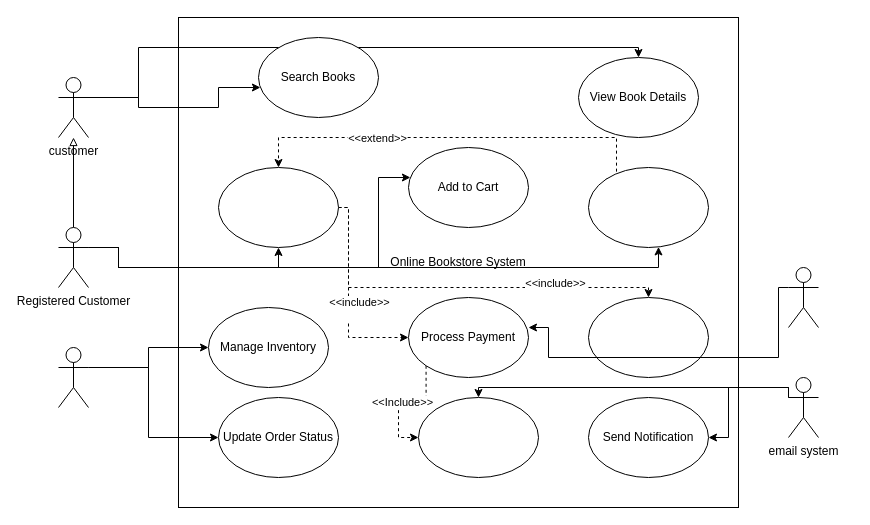
Image size: 870x525. Some labels were removed from this diagram. The centre of each missing label's shape, as x and y in pixels:
"administrator" goes at point 73,377.
"Login" goes at point 648,207.
"Payment Gateway" goes at point 803,297.
"Place Order" goes at point 278,207.
"Provide Shipping Info" goes at point 648,337.
"Send Confirmation Email" goes at point 478,437.
